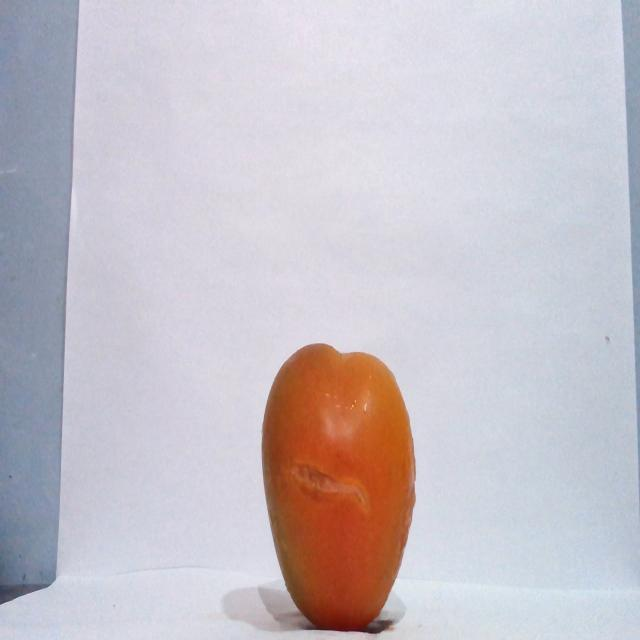Red: (259, 341, 417, 630)
